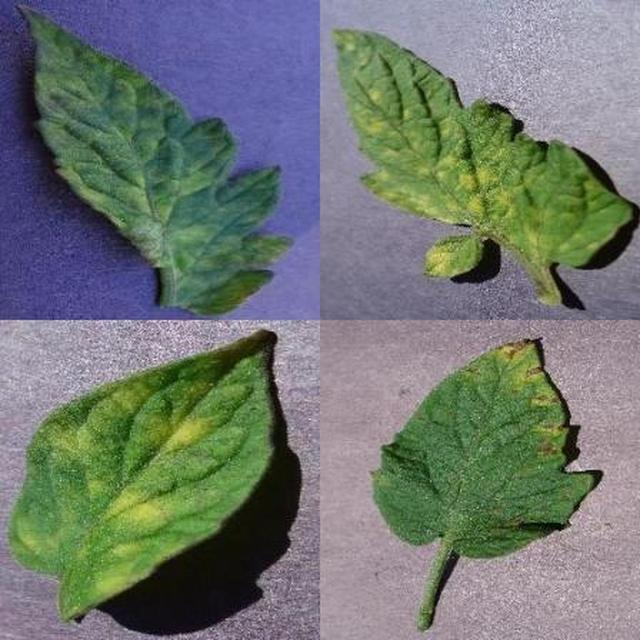Leaf Mold: (202, 219, 640, 640)
